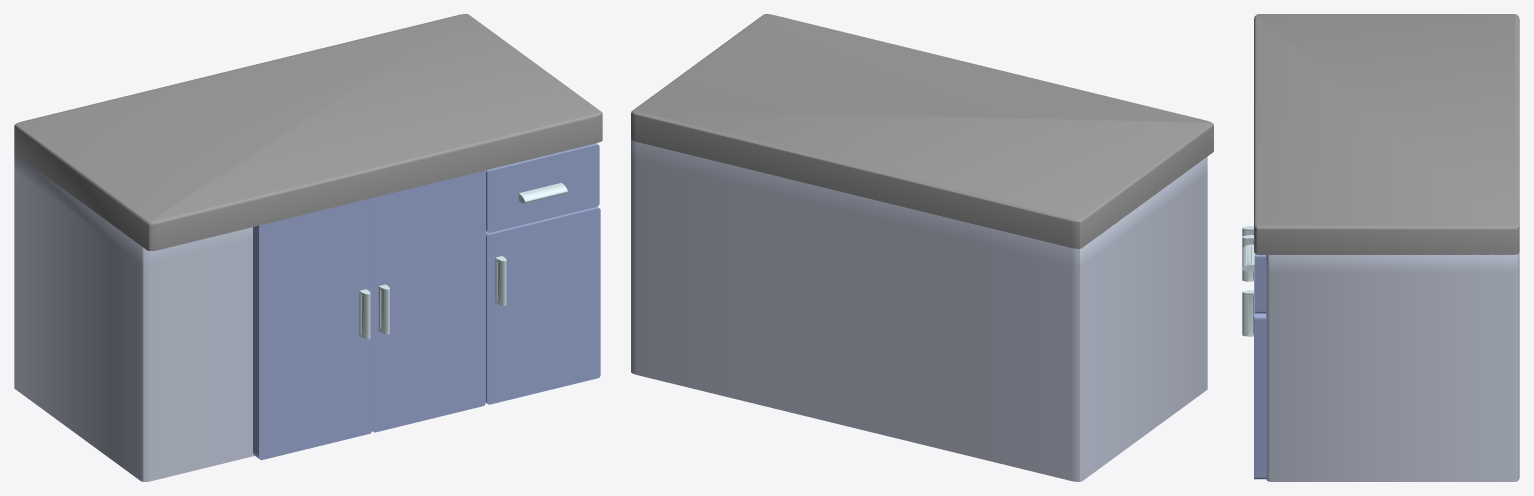
The model's file is LongCupBoard.fbx.
3 renders of one model, left to right at view 1: azimuth 30°, elevation 25°; view 2: azimuth 150°, elevation 25°; view 3: azimuth 270°, elevation 25°, orthographic. The views are drawn at different scales.
Visible parts, largest first — view 1: L_cupboard; view 2: L_cupboard; view 3: L_cupboard.
Boxes of the visible parts, box(x1,y1,x2,y2) form: L_cupboard: box(14, 14, 602, 481); L_cupboard: box(631, 14, 1213, 481); L_cupboard: box(1242, 14, 1519, 481).
Size of the model in its own units: 152 by 84.17 by 83.09.
1 material, 1 textured.
